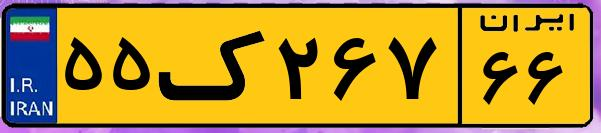2: (270, 28, 330, 110)
5: (57, 26, 110, 100), (110, 28, 158, 98)
6: (330, 28, 385, 110), (475, 38, 525, 113), (525, 38, 570, 115)
7: (385, 28, 445, 110)
ک: (158, 12, 270, 120)
